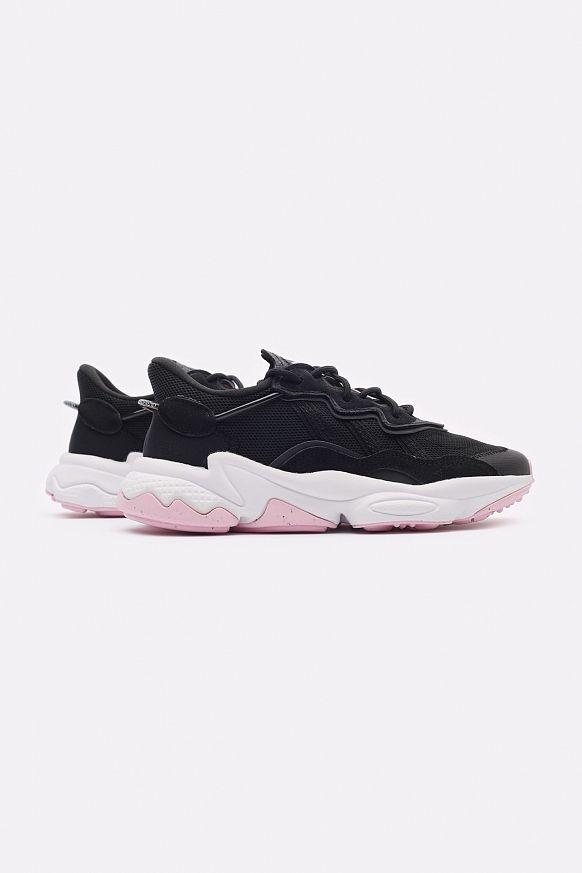sneaker: (126, 334, 536, 540)
